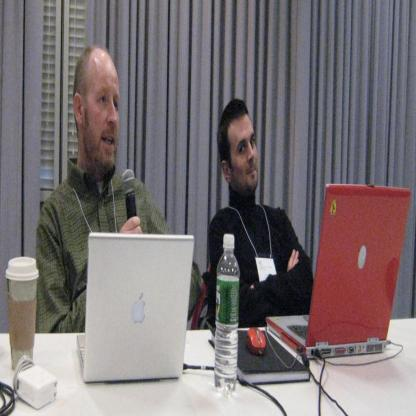board: (266, 186, 410, 354), (78, 222, 196, 386), (215, 233, 240, 392)
